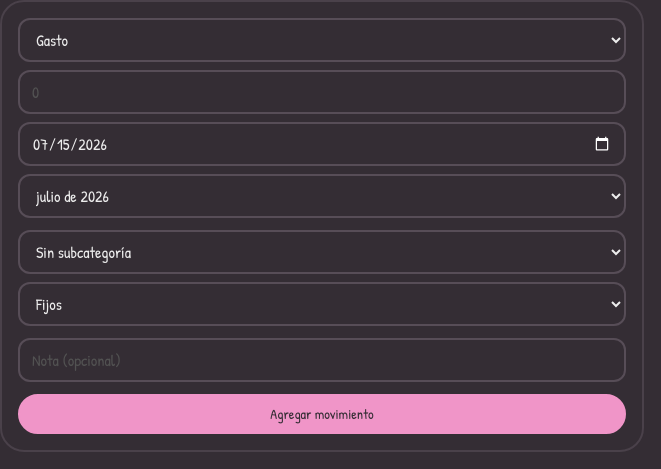
Test case: TransactionForm › does not show subcategory or bucket controls for income/savings types
The image size is (661, 469).
Step 1. Select "Ingreso" in the dropdown named "Tipo de movimiento" → x=322, y=40, box [18,18,626,62]
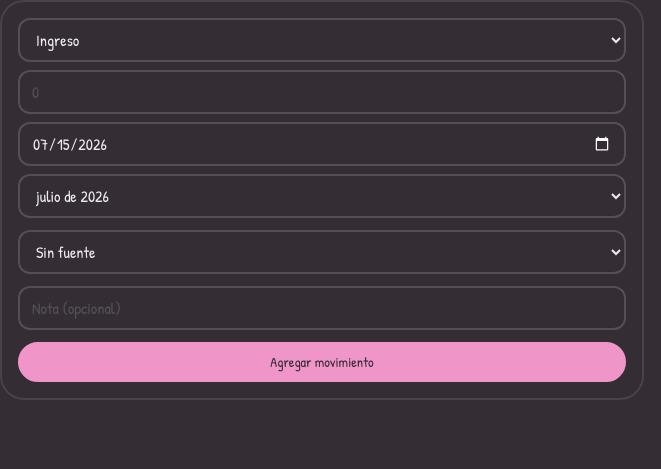
Result: the dropdown labelled "Subcategoría" is gone
Result: the dropdown labelled "Bucket" is gone
